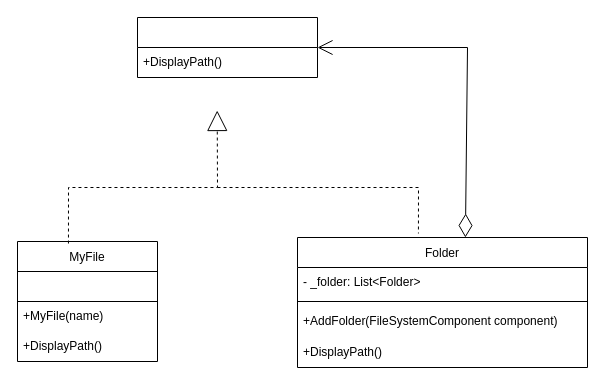
This 605x385 diagram has some shape labels left out. The shapes that lost their labels are listed below. From the top down, each one's box as (x1, y1, x2, y2) in pixels, then its label:
(136, 16, 318, 78): <<interface>> FileSystemComponent
(16, 270, 158, 302): -_FileName
